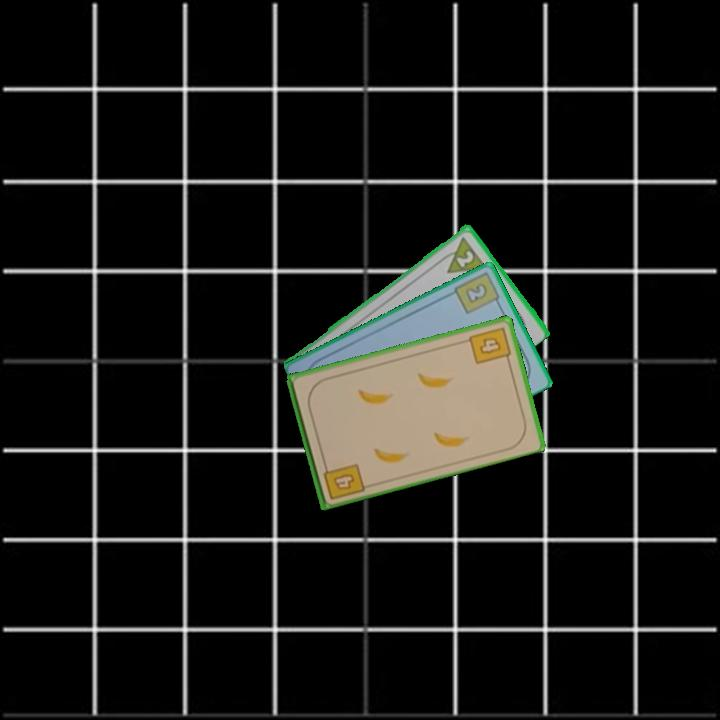2b: (450, 269, 504, 317)
2p: (435, 232, 489, 276)
4b: (465, 323, 513, 367), (320, 458, 367, 502)
